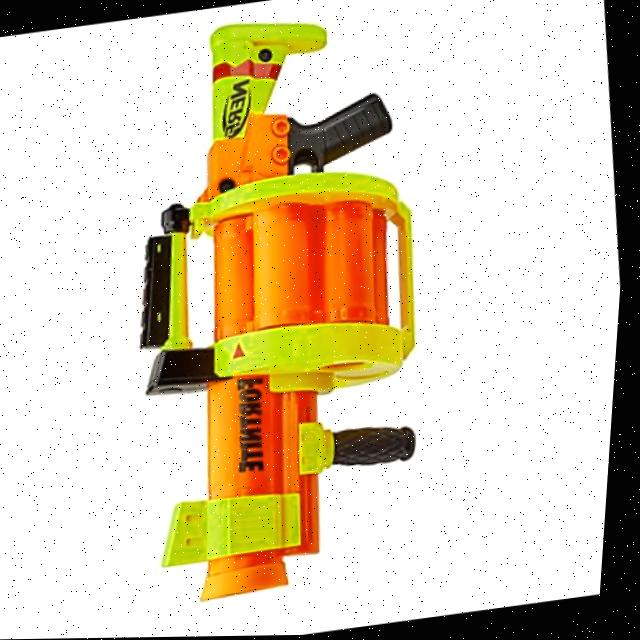rocket: (87, 3, 471, 613)
